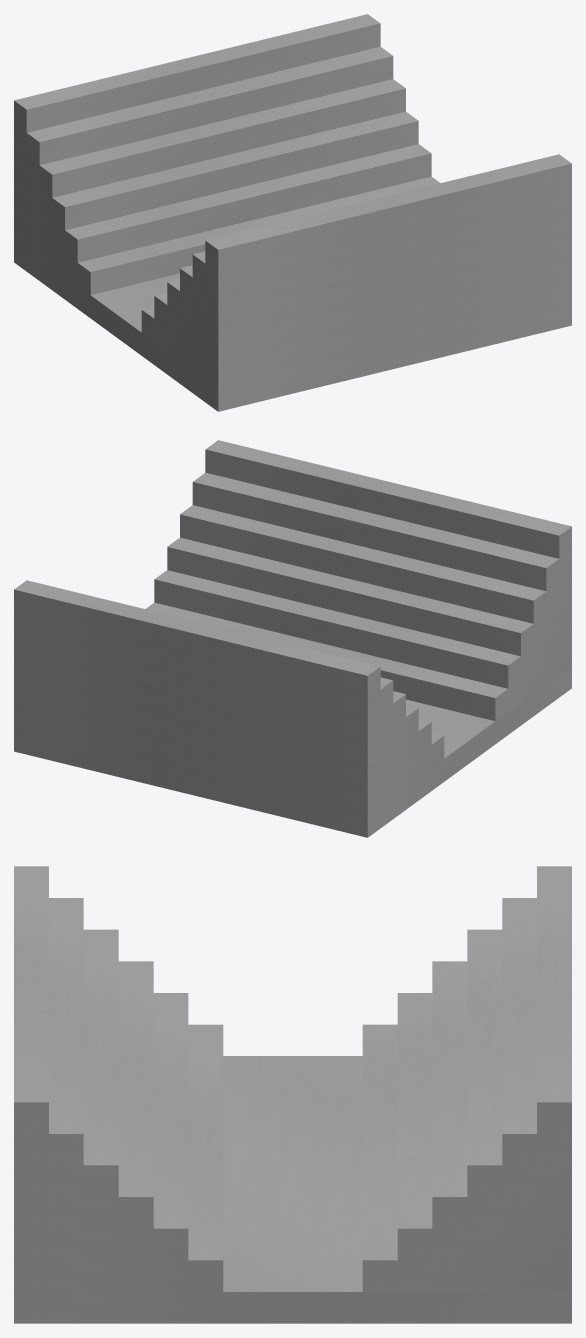
The model's file is mosaic_light_multi_base.obj.
3 views of the same model, one above another, from view 1: azimuth 30°, elevation 25°; view 2: azimuth 150°, elevation 25°; view 3: azimuth 270°, elevation 25° (orthographic). The views are drawn at different scales.
Parts seen in each view (by area): view 1: 0, 2, 3, 4, 5, 6, 7, 12, 11, 10, 9, 8 (+1 smaller); view 2: 0, 11, 10, 9, 8, 7, 6, 1, 2, 3, 4, 5 (+1 smaller); view 3: 0, 1, 12, 2, 11, 3, 10, 4, 9, 5, 8, 6 (+1 smaller).
Part boxes in pixels (x1,y1,x2,y2): 0: (14, 239, 571, 411); 2: (14, 144, 431, 262); 3: (14, 111, 418, 230); 4: (14, 79, 405, 197); 5: (14, 46, 393, 165); 6: (14, 14, 380, 132); 7: (205, 154, 571, 272); 12: (141, 279, 571, 388); 11: (154, 256, 571, 365); 10: (167, 233, 571, 342); 9: (180, 210, 571, 319); 8: (192, 187, 571, 295); 0: (14, 665, 571, 837); 11: (154, 570, 571, 688); 10: (167, 537, 571, 656); 9: (180, 505, 571, 623); 8: (192, 472, 571, 591); 7: (205, 440, 571, 558); 6: (14, 580, 380, 698); 1: (14, 705, 444, 814); 2: (14, 682, 431, 791); 3: (14, 659, 418, 768); 4: (14, 636, 405, 745); 5: (14, 613, 393, 721); 0: (14, 1056, 571, 1323); 1: (362, 1024, 571, 1291); 12: (14, 1024, 223, 1291); 2: (397, 993, 571, 1260); 11: (14, 993, 188, 1260); 3: (432, 961, 571, 1228); 10: (14, 961, 153, 1228); 4: (467, 929, 571, 1196); 9: (14, 929, 118, 1196); 5: (502, 898, 571, 1165); 8: (14, 898, 83, 1165); 6: (537, 866, 571, 1133).
Bounding box in the file's own units: 16 × 7 × 16.
